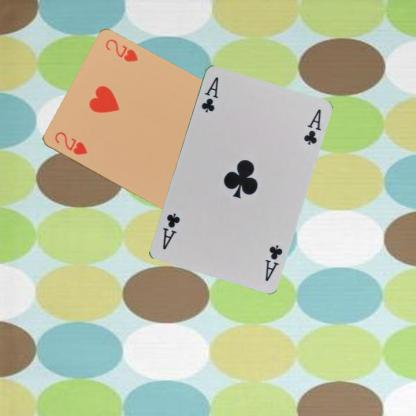2h: (52, 129, 89, 156)
Ac: (198, 74, 220, 114), (262, 242, 284, 282)
